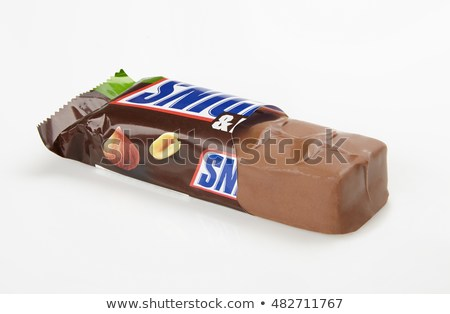snickers: (131, 80, 262, 120)
